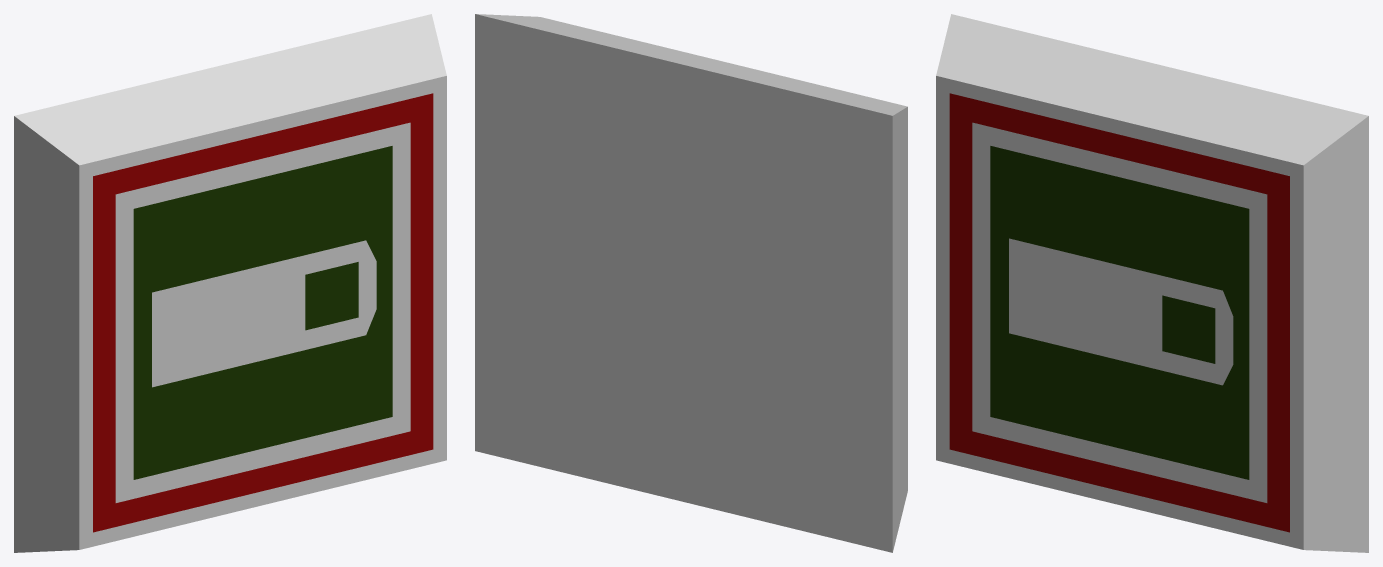
Rendered from SciFi_Semiotic_Coffee_01.fbx.
3 views of the same model, side by side, from view 1: azimuth 30°, elevation 25°; view 2: azimuth 150°, elevation 25°; view 3: azimuth 330°, elevation 25° (orthographic).
Visible parts, largest first — view 1: Model; view 2: Model; view 3: Model.
Part boxes in pixels (x1,y1,x2,y2): Model: [14, 14, 446, 552]; Model: [475, 14, 907, 552]; Model: [936, 14, 1368, 552].
Size of the model in its own units: 251 by 251 by 41.83.
